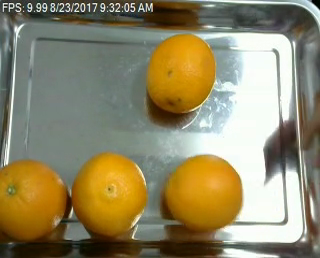Orange: (70, 153, 148, 235), (162, 153, 244, 231), (146, 33, 215, 113), (1, 160, 68, 240)
